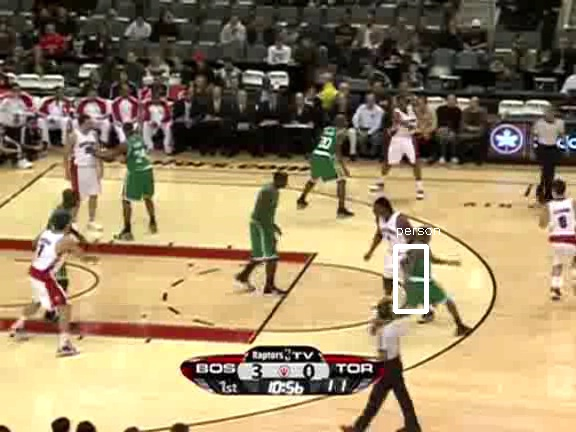person: (404, 239, 438, 320), (403, 239, 437, 320), (405, 239, 439, 320), (404, 238, 438, 319), (404, 240, 438, 321)
target_negative: (75, 92, 218, 269), (257, 163, 378, 298), (390, 328, 546, 426), (446, 35, 500, 160), (452, 136, 468, 416), (342, 358, 409, 365)
